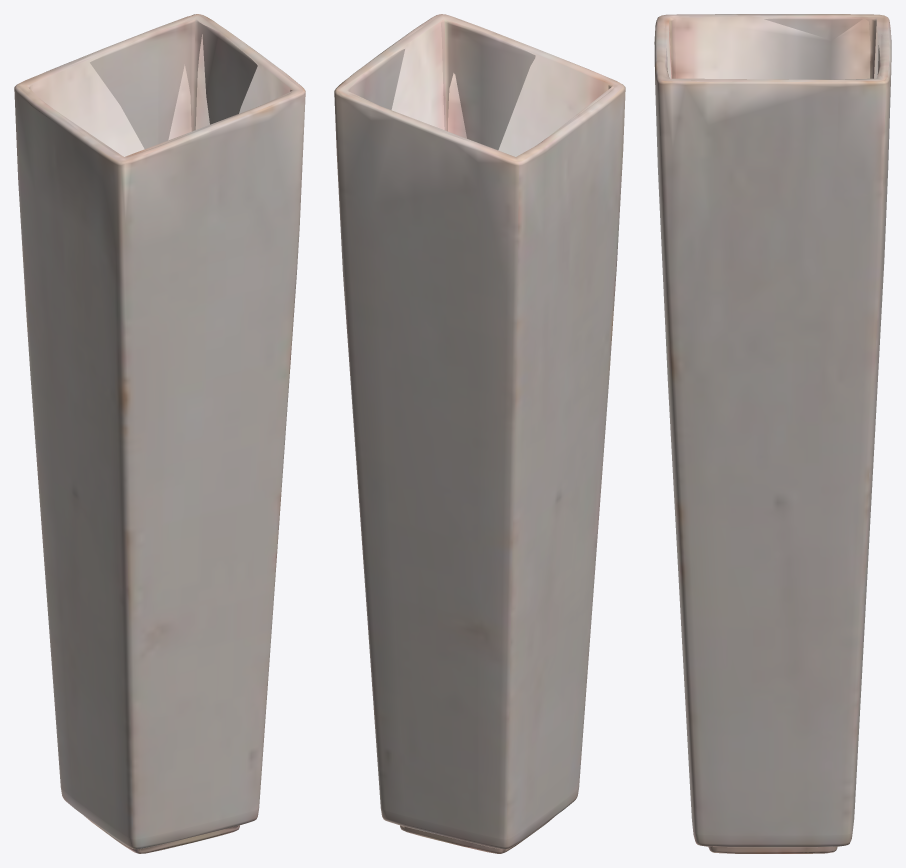
The model's file is ceramic_vase_03.glb.
3 renders of one model, left to right at view 1: azimuth 30°, elevation 25°; view 2: azimuth 150°, elevation 25°; view 3: azimuth 270°, elevation 25°, orthographic. The views are drawn at different scales.
Visible parts, largest first — view 1: ceramic_vase_03, ceramic_vase_03_lo; view 2: ceramic_vase_03, ceramic_vase_03_lo; view 3: ceramic_vase_03, ceramic_vase_03_lo.
Boxes of the visible parts, left/top/right/bottom form: ceramic_vase_03: left=14, top=14, right=305, bottom=853; ceramic_vase_03_lo: left=18, top=14, right=302, bottom=851; ceramic_vase_03: left=334, top=14, right=625, bottom=853; ceramic_vase_03_lo: left=337, top=14, right=619, bottom=842; ceramic_vase_03: left=654, top=14, right=891, bottom=853; ceramic_vase_03_lo: left=662, top=14, right=886, bottom=853.
Bounding box in the file's own units: 0.112 × 0.4143 × 0.1121.
1 material, 1 textured.
